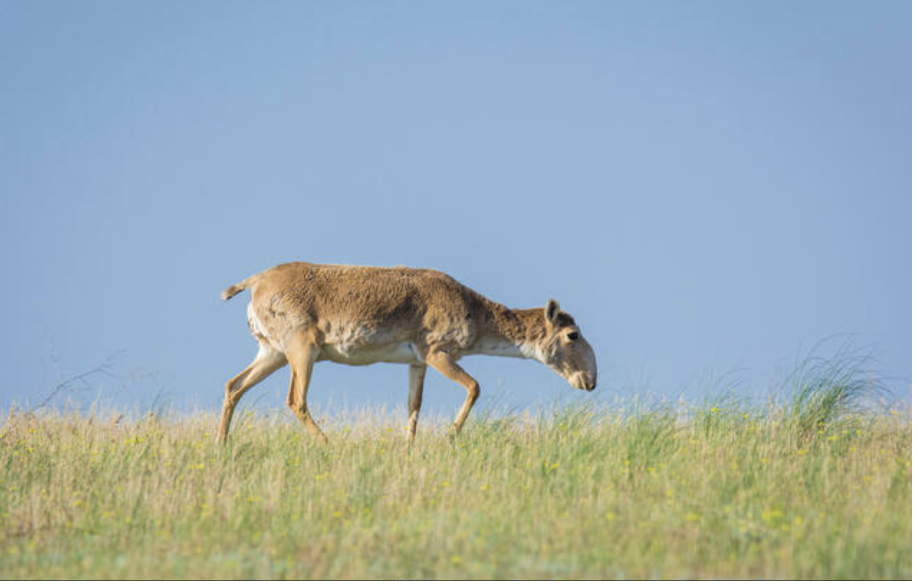saiga: (206, 241, 624, 458)
